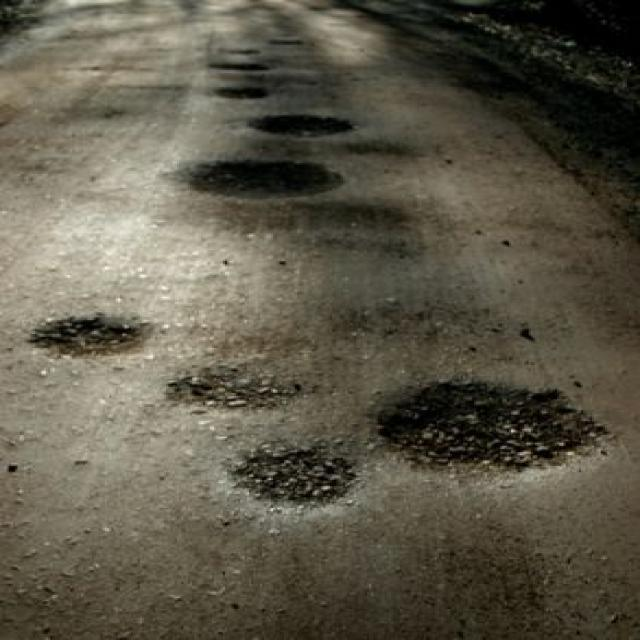pothole: (360, 363, 612, 474), (172, 152, 354, 205), (15, 306, 155, 358), (240, 107, 363, 140)
